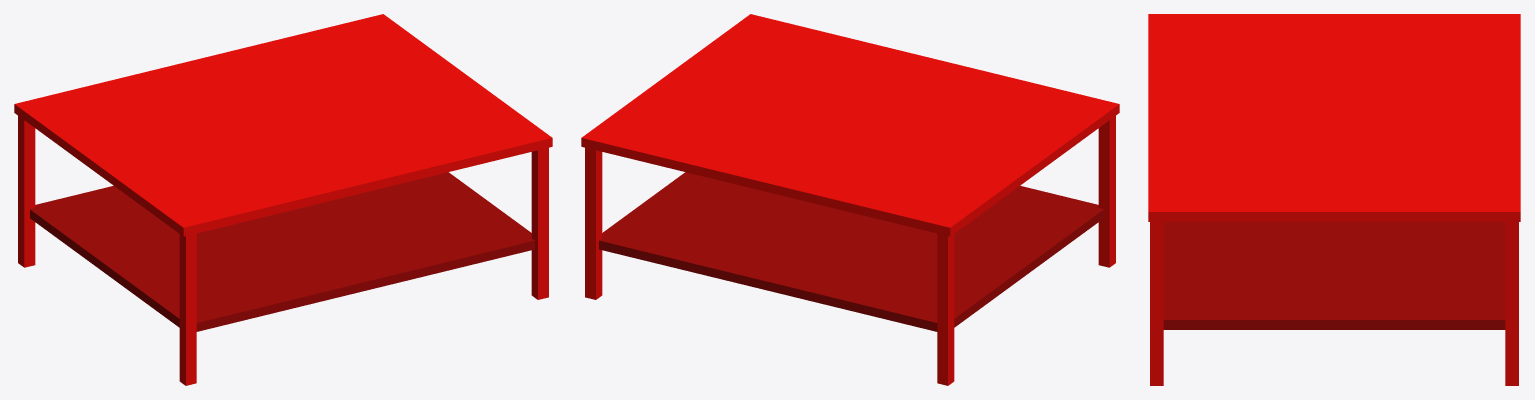
The model's file is table18.fbx.
3 renders of one model, left to right at view 1: azimuth 30°, elevation 25°; view 2: azimuth 150°, elevation 25°; view 3: azimuth 270°, elevation 25°, orthographic. The views are drawn at different scales.
Visible parts, largest first — view 1: Table18; view 2: Table18; view 3: Table18.
Boxes of the visible parts, x1=… form: Table18: x1=14, y1=14, x2=552, y2=385; Table18: x1=581, y1=14, x2=1119, y2=385; Table18: x1=1148, y1=14, x2=1520, y2=385.
Bounding box in the file's own units: 183 × 75.44 × 145.
